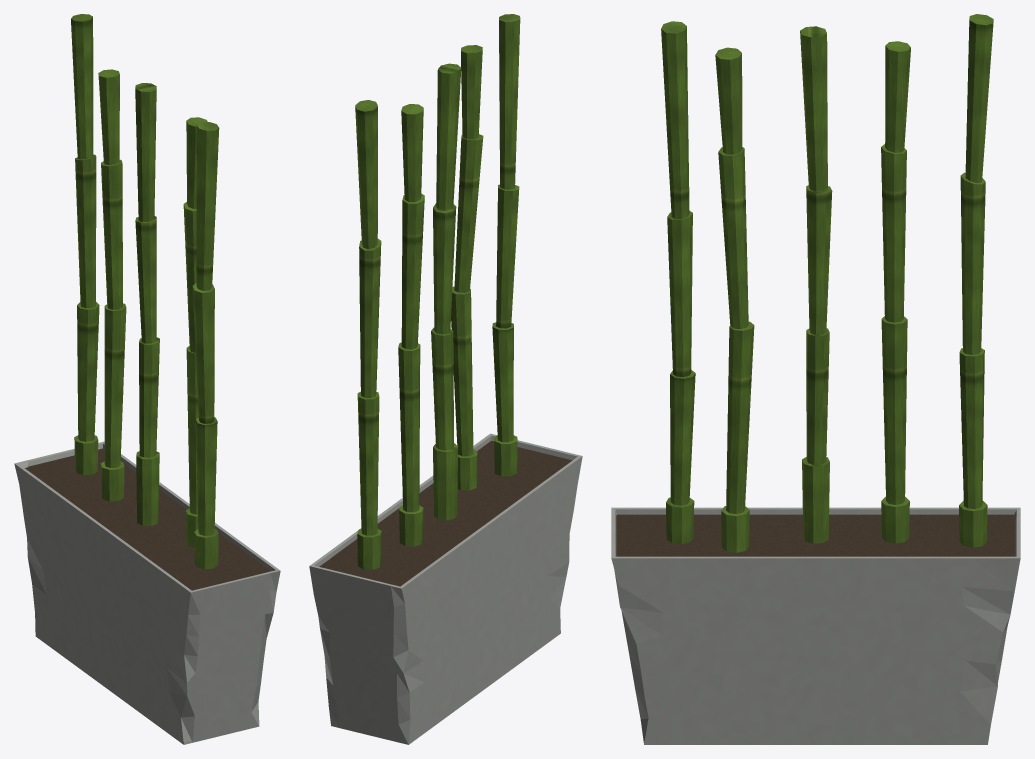
File: 11_deco_3.glb
The picture shows the model from 3 angles, left to right: view 1: azimuth 30°, elevation 25°; view 2: azimuth 150°, elevation 25°; view 3: azimuth 270°, elevation 25°; orthographic projection. The views are drawn at different scales.
Parts seen in each view (by area): view 1: Intact; view 2: Intact; view 3: Intact.
Part boxes in pixels (x1,y1,x2,y2): Intact: (14,14,280,744); Intact: (309,14,582,744); Intact: (611,14,1020,744).
Bounding box in the file's own units: 0.375 × 2.44 × 1.28.
Materials: 3 (3 with a texture image).
